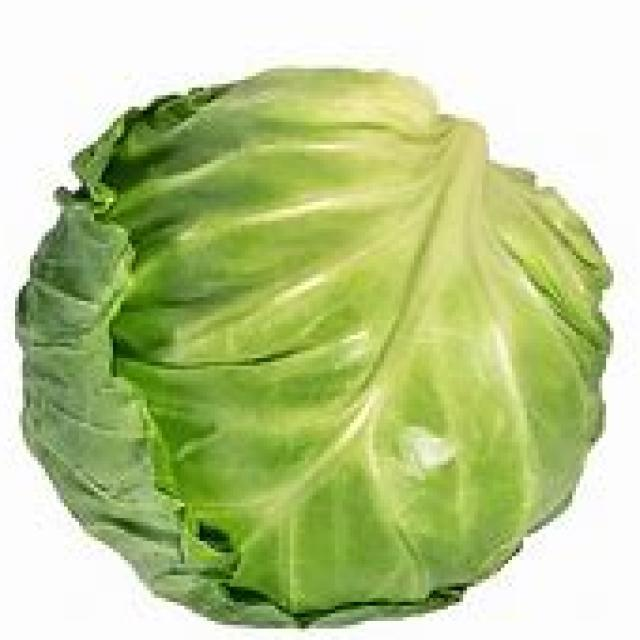cabbage: (21, 45, 622, 637)
